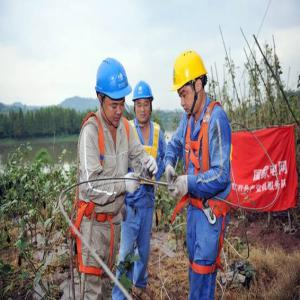blue: (94, 54, 130, 129), (132, 79, 155, 125)
yellow: (172, 46, 208, 118)
